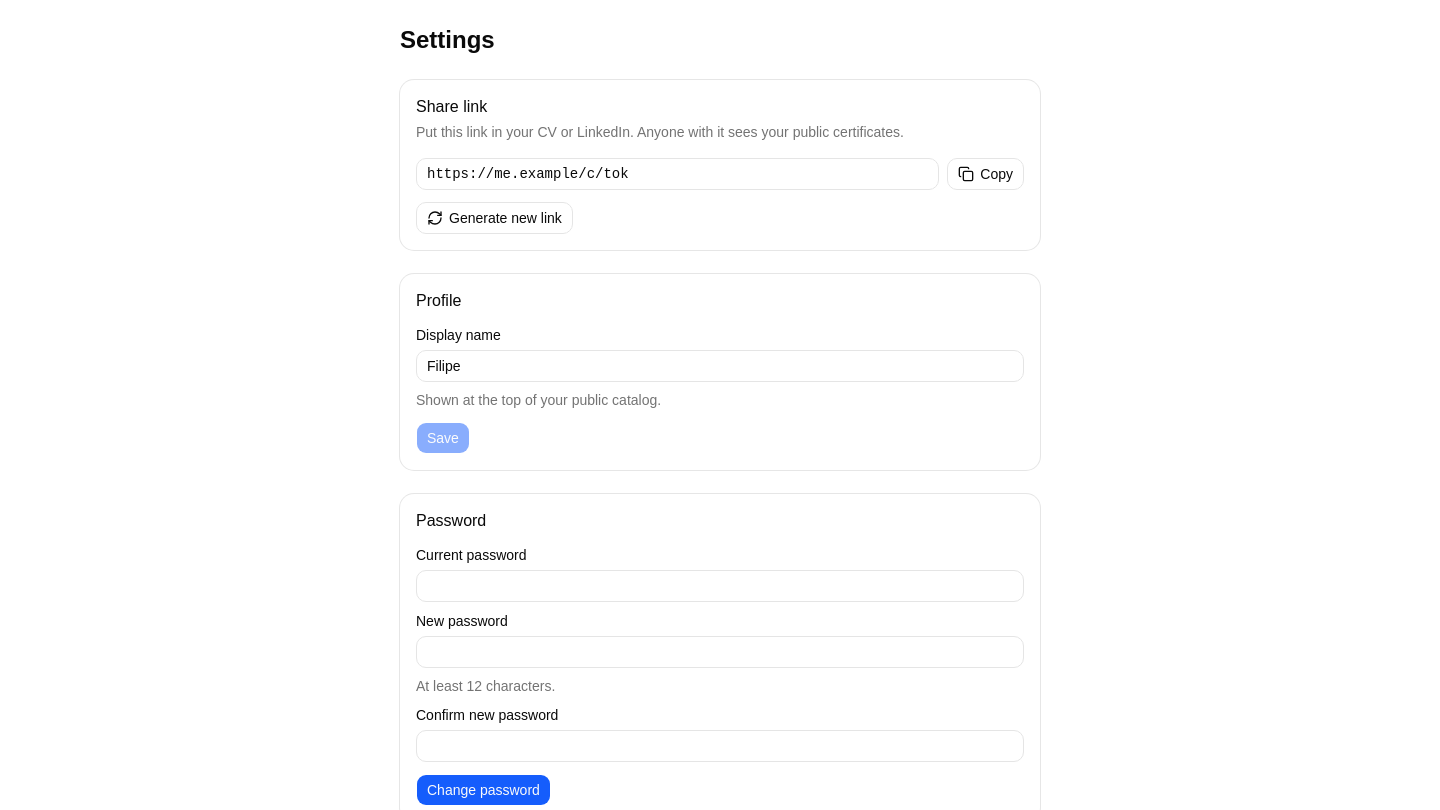
Test: SettingsPage › shows the share link and regenerates it after confirming
This screenshot has width=1440, height=810.
Expected: the field showing "https://me.example/c/tok" is shown, [416,158,939,190]
Click the button "Generate new link" at (494, 218), box [416,202,573,234]
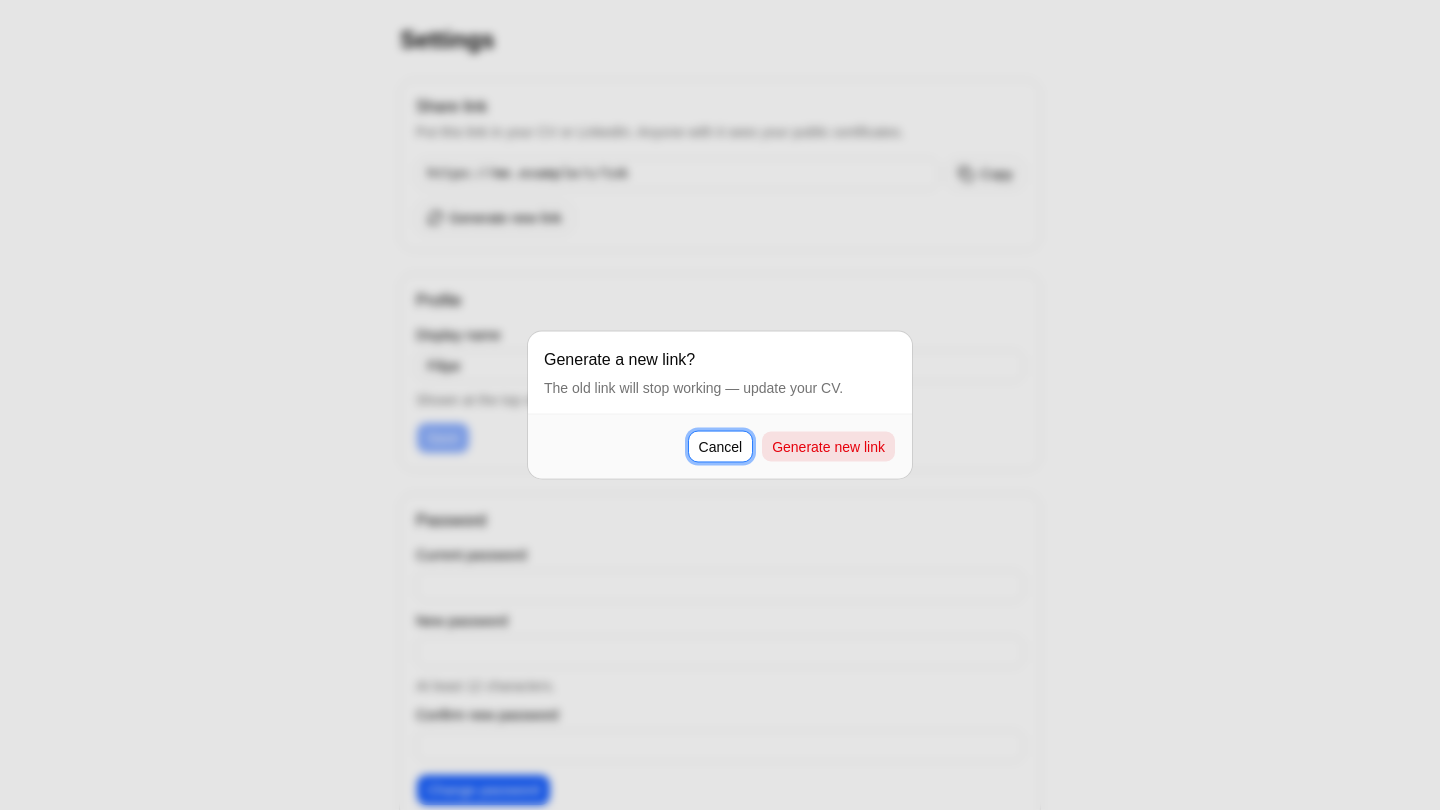
Now the dialog shows "The old link will stop working — update your CV.", box [544,380,843,396]
Click the button "Generate new link" at (829, 446), box [761,430,896,462]
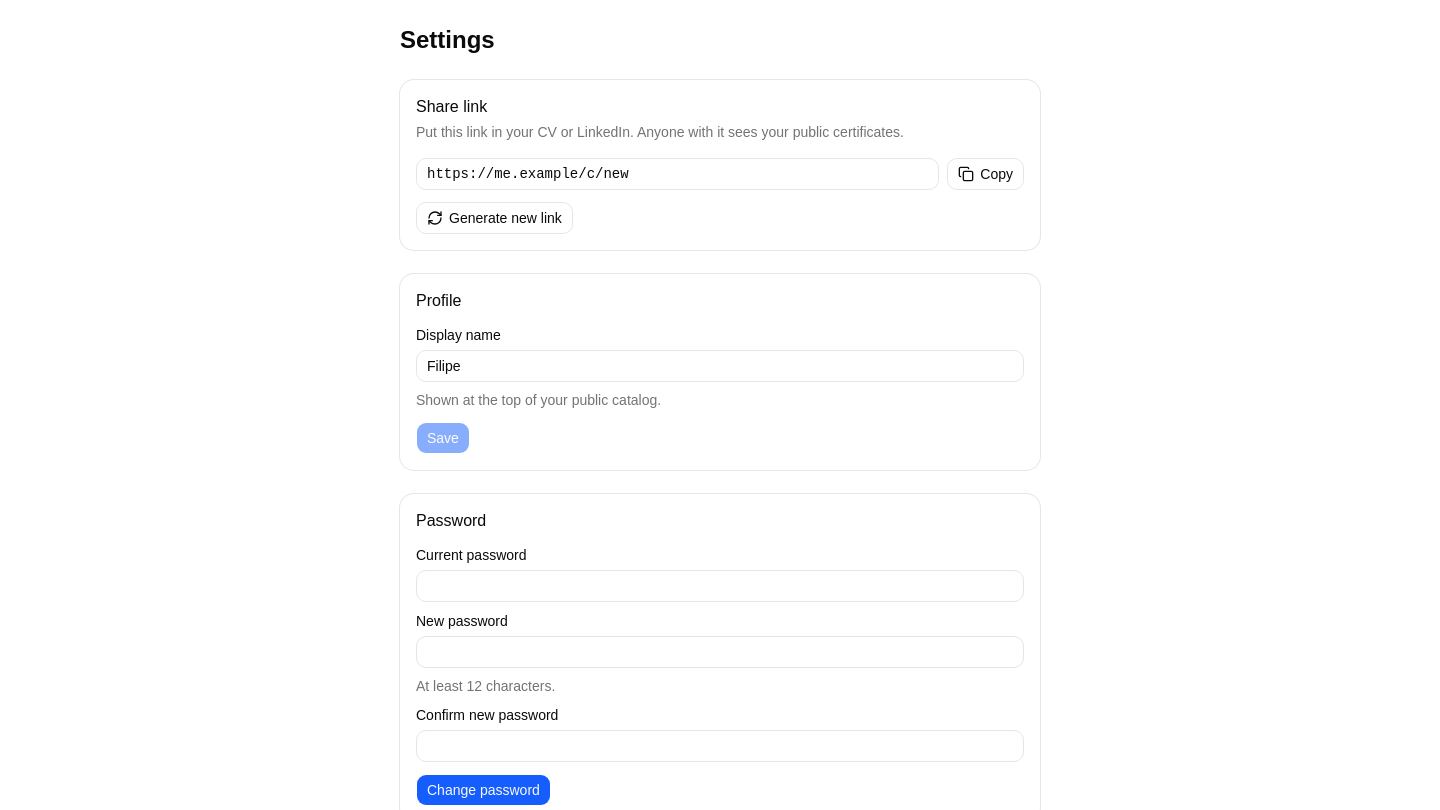
Now the field showing "https://me.example/c/new" is shown, box [416,158,939,190]
